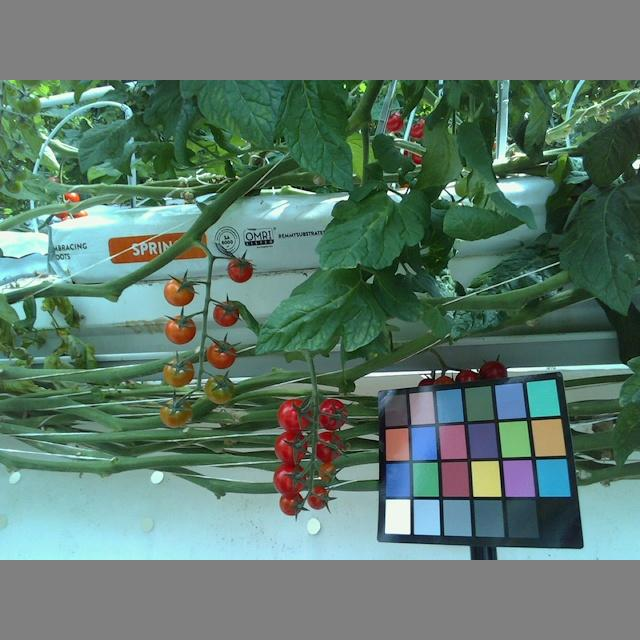pink: (158, 397, 193, 430), (165, 314, 197, 346), (164, 277, 195, 308), (205, 340, 237, 370), (162, 356, 194, 385), (201, 374, 234, 402), (225, 258, 254, 283), (214, 301, 239, 329), (317, 461, 335, 479)
red: (277, 399, 314, 434), (273, 430, 309, 465), (310, 429, 343, 464), (271, 461, 304, 495), (315, 397, 348, 430), (280, 492, 305, 519), (304, 486, 329, 509)
